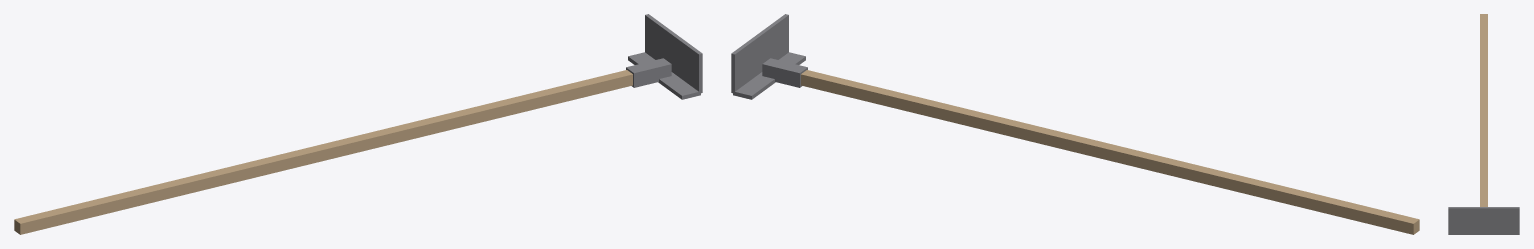
The model's file is prop-lime-rake.fbx.
3 renders of one model, left to right at view 1: azimuth 30°, elevation 25°; view 2: azimuth 150°, elevation 25°; view 3: azimuth 270°, elevation 25°, orthographic. The views are drawn at different scales.
Visible parts, largest first — view 1: prop-lime-rake; view 2: prop-lime-rake; view 3: prop-lime-rake.
Part boxes in pixels (box(x1,y1,x2,y2)): prop-lime-rake: box(14, 14, 702, 234); prop-lime-rake: box(731, 14, 1419, 234); prop-lime-rake: box(1448, 14, 1519, 234).
Size of the model in its own units: 211 by 12.6 by 30.
